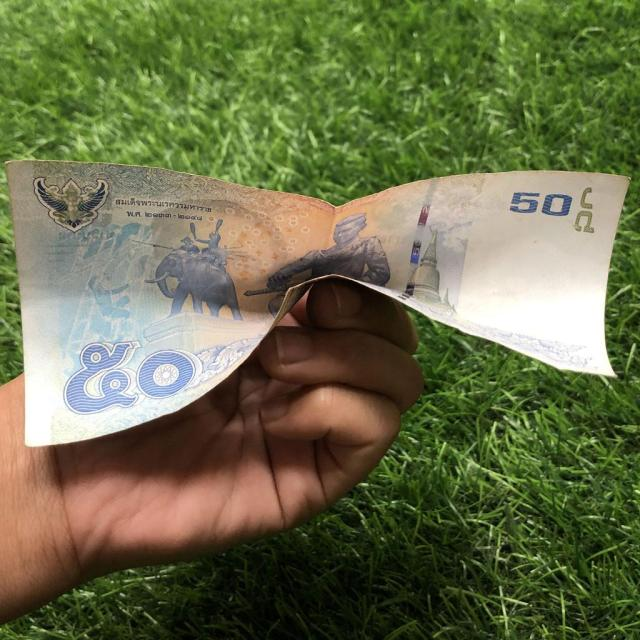THAI50: (6, 161, 631, 450)
